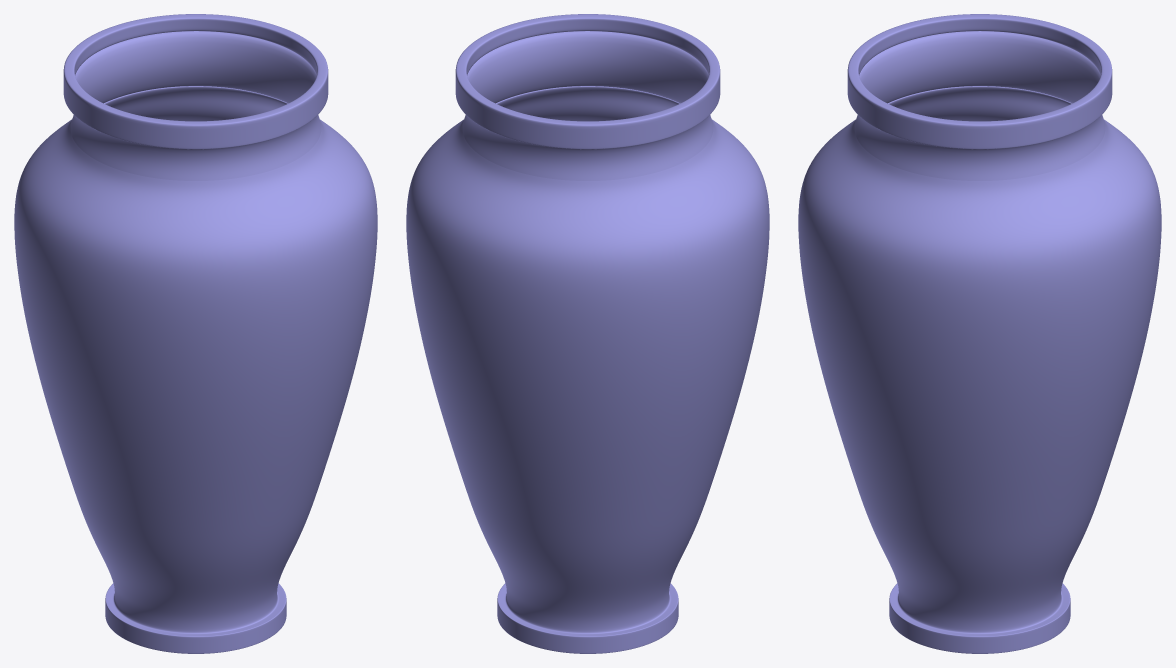
File: Vase.fbx
3 views of the same model, side by side, from view 1: azimuth 30°, elevation 25°; view 2: azimuth 150°, elevation 25°; view 3: azimuth 270°, elevation 25° (orthographic).
Visible parts, largest first — view 1: Vase; view 2: Vase; view 3: Vase.
Part boxes in pixels (x1,y1,x2,y2): Vase: (14, 14, 377, 653); Vase: (406, 14, 769, 653); Vase: (798, 14, 1161, 653).
Bounding box in the file's own units: 21.81 × 36.2 × 21.81.
